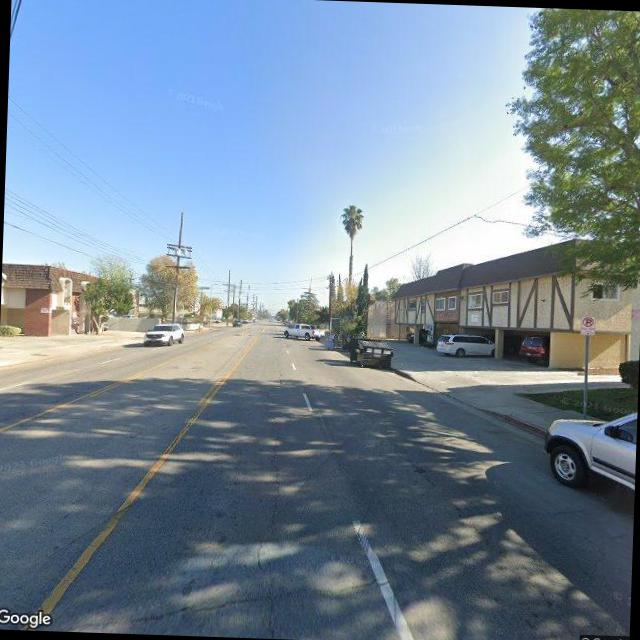pothole: (245, 360, 288, 580)
